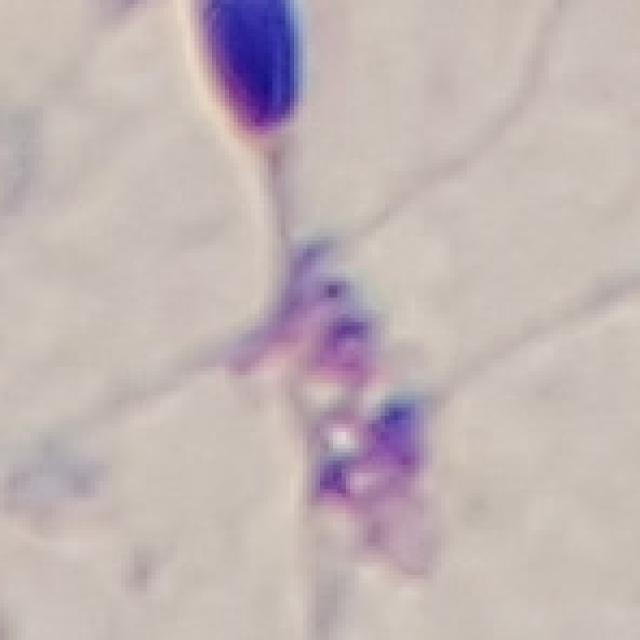non-sperm: (273, 234, 436, 544)
